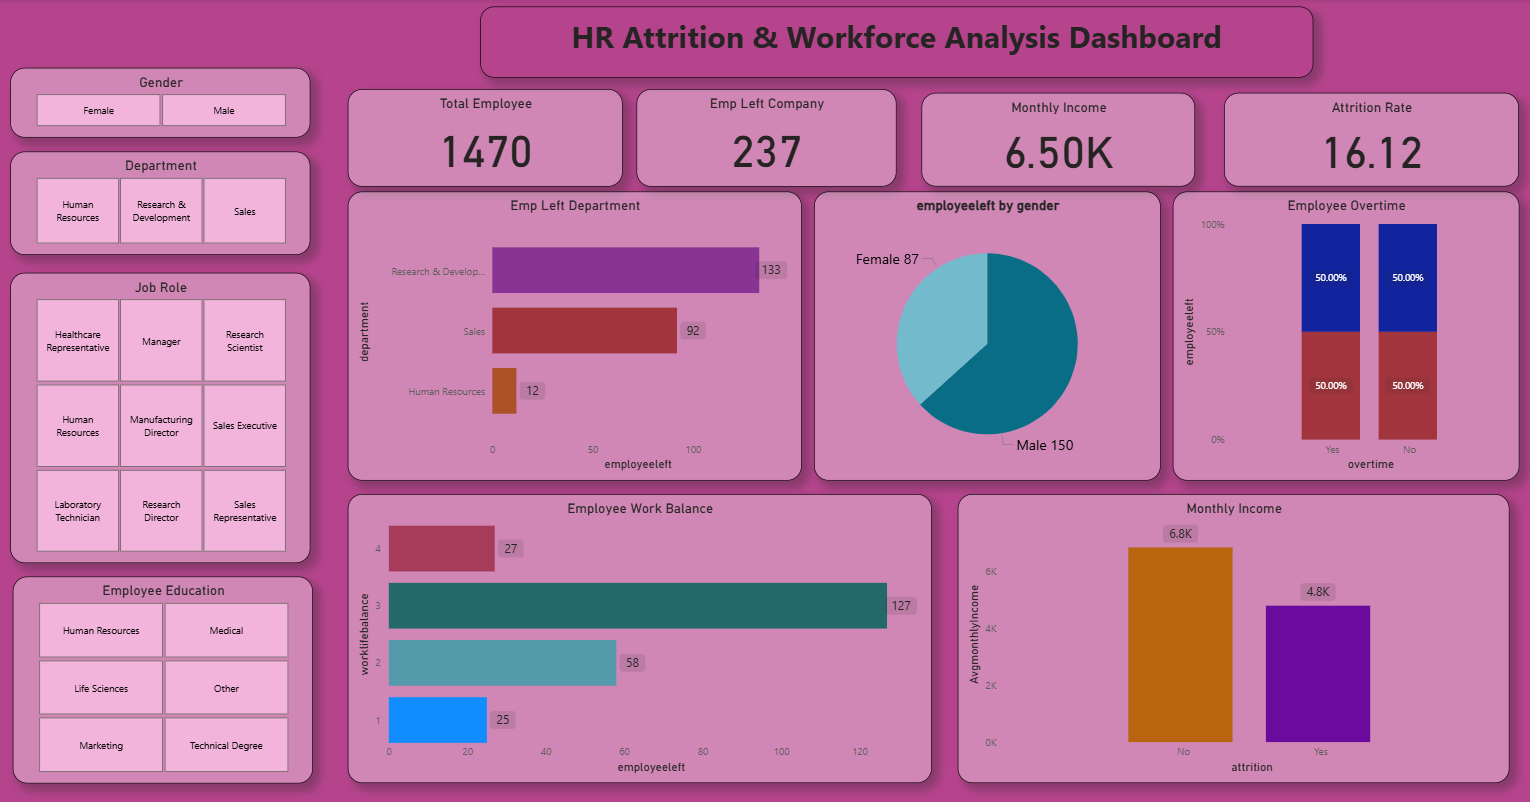

What the dashboard file says about the page in this screenshot:
{"tool":"powerbi","page":{"name":"Page 1","canvas":[1900,1000],"ordinal":0},"visuals":[{"type":"card","title":"Total Employee","fields":{"Values":["public hr_attrition.TotalEmp"]},"box":[437.1,110.6,340.4,120.9],"z":0},{"type":"card","title":"Emp Left Company","fields":{"Values":["public hr_attrition.employeeleft"]},"box":[794.8,110.6,321.4,120.9],"z":1000},{"type":"card","title":"Attrition Rate","fields":{"Values":["public hr_attrition.attrition Rate %"]},"box":[1521.8,115.9,364.7,115.9],"z":2000},{"type":"card","title":"Monthly Income","fields":{"Values":["public hr_attrition.AvgmonthlyIncome"]},"box":[1147.2,115.8,338.6,115.8],"z":3000},{"type":"clusteredBarChart","title":"Emp Left Department","fields":{"Category":["public hr_attrition.department"],"Y":["public hr_attrition.employeeleft"]},"box":[437.1,238.4,561.5,357.6],"z":4000},{"type":"hundredPercentStackedColumnChart","title":"Employee Overtime","fields":{"Category":["public hr_attrition.overtime"],"Y":["public hr_attrition.employeeleft"],"Series":["public hr_attrition.attrition"]},"box":[1458.2,238.4,428.5,357.6],"z":6000},{"type":"pieChart","fields":{"Category":["public hr_attrition.gender"],"Y":["public hr_attrition.employeeleft"]},"box":[1014.2,238.4,428.5,357.6],"z":7000},{"type":"columnChart","title":"Monthly Income","fields":{"Category":["public hr_attrition.attrition"],"Y":["public hr_attrition.AvgmonthlyIncome"]},"box":[1192.1,611.6,682.5,357.6],"z":8000},{"type":"clusteredBarChart","title":"Employee Work Balance","fields":{"Y":["public hr_attrition.employeeleft"],"Category":["public hr_attrition.worklifebalance"]},"box":[437.1,611.6,722.2,357.6],"z":9000},{"type":"slicer","title":"Department","fields":{"Values":["public hr_attrition.department"]},"box":[20.7,188.3,371.5,127.9],"z":11000},{"type":"slicer","title":"Gender","fields":{"Values":["public hr_attrition.gender"]},"box":[20.7,84.7,371.5,86.4],"z":12000},{"type":"slicer","title":"Job Role","fields":{"Values":["public hr_attrition.jobrole"]},"box":[20.7,338.6,371.5,359.4],"z":13000},{"type":"slicer","title":"Employee Education","fields":{"Values":["public hr_attrition.educationfield"]},"box":[22.5,713.5,371.5,255.7],"z":14000},{"type":"textbox","box":[600.7,8.6,1030.4,88],"z":15000}]}

Visuals, with their boxes in screenshot pixels (x1, y1, x2, y2), scaled from the page's 1900x1000 canvas onto the 1530x802 screenshot:
"Total Employee" card: box=[352, 89, 626, 186]
"Emp Left Company" card: box=[640, 89, 899, 186]
"Attrition Rate" card: box=[1225, 93, 1519, 186]
"Monthly Income" card: box=[924, 93, 1196, 186]
"Emp Left Department" clusteredBarChart: box=[352, 191, 804, 478]
"Employee Overtime" hundredPercentStackedColumnChart: box=[1174, 191, 1519, 478]
pieChart - public hr_attrition.gender x public hr_attrition.employeeleft: box=[817, 191, 1162, 478]
"Monthly Income" columnChart: box=[960, 491, 1510, 777]
"Employee Work Balance" clusteredBarChart: box=[352, 491, 934, 777]
"Department" slicer: box=[17, 151, 316, 254]
"Gender" slicer: box=[17, 68, 316, 137]
"Job Role" slicer: box=[17, 272, 316, 560]
"Employee Education" slicer: box=[18, 572, 317, 777]
textbox: box=[484, 7, 1313, 77]
